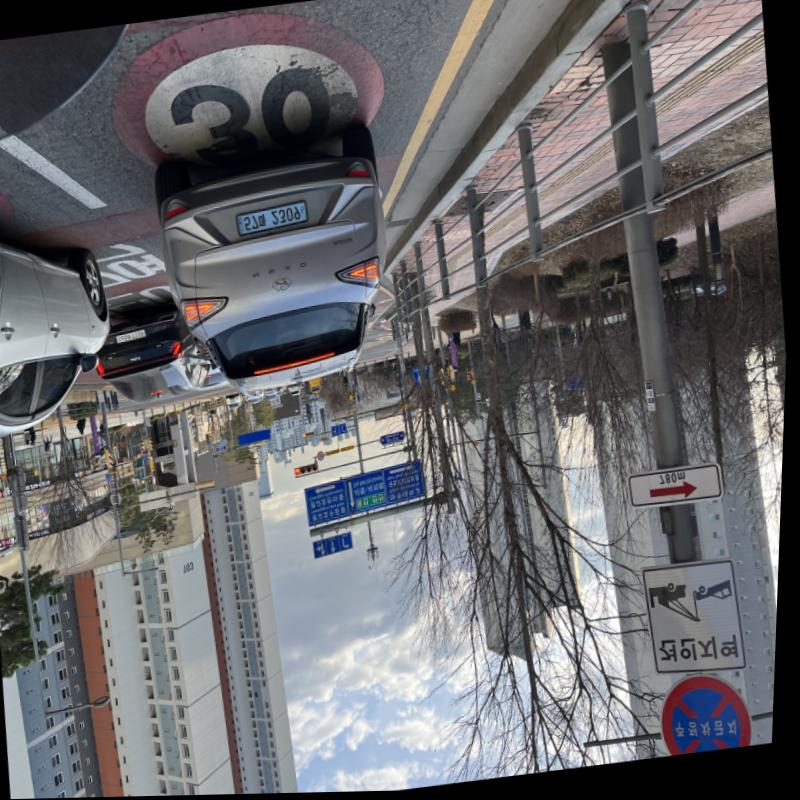red: (298, 469, 304, 476)
